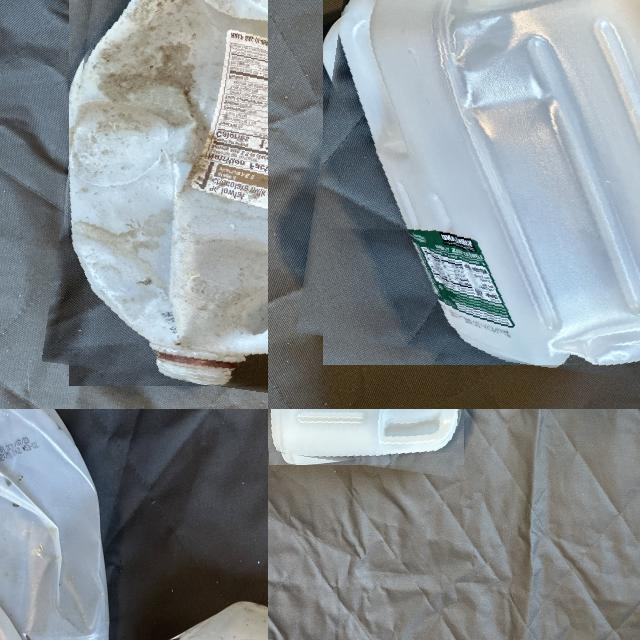milk-jug: (309, 0, 640, 379), (54, 0, 268, 396), (0, 409, 113, 640), (268, 409, 467, 471)
